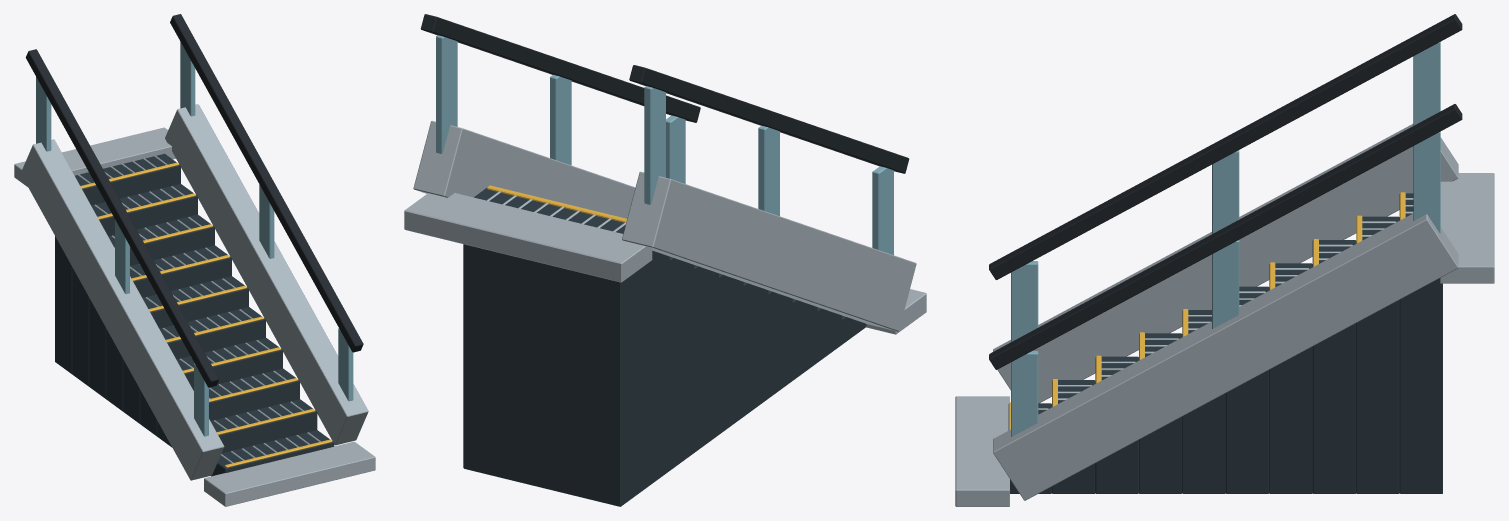
The model's file is b13_subway_entry_escalator.glb.
The picture shows the model from 3 angles, left to right: view 1: azimuth 30°, elevation 25°; view 2: azimuth 150°, elevation 25°; view 3: azimuth 270°, elevation 25°; orthographic projection. The views are drawn at different scales.
Parts seen in each view (by area): view 1: b13_subway_entry_escalator; view 2: b13_subway_entry_escalator; view 3: b13_subway_entry_escalator.
Boxes of the visible parts, left/top/right/bottom form: b13_subway_entry_escalator: left=14, top=14, right=375, bottom=506; b13_subway_entry_escalator: left=404, top=14, right=926, bottom=506; b13_subway_entry_escalator: left=955, top=14, right=1494, bottom=506.
Bounding box in the file's own units: 1.52 × 2.74 × 3.35.
